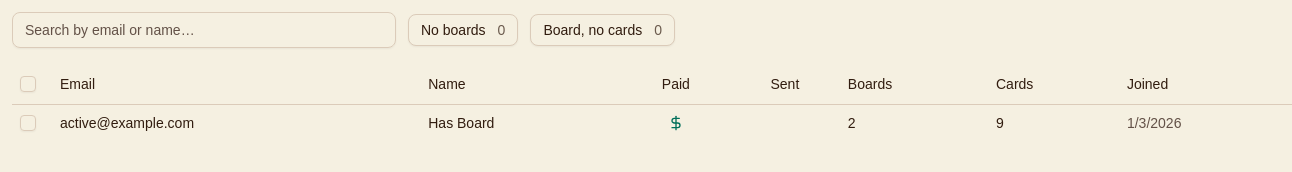
Test case: UserSearch — no-boards filter › explains an empty result as a filter effect, not "no users"
Click the button "No boards 0": (463, 30) [408,14,518,46]
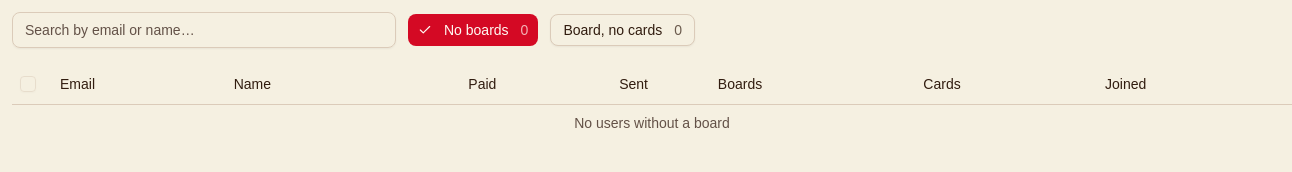
Expected: the text "No users without a board" is shown, [12,104,1291,140]
